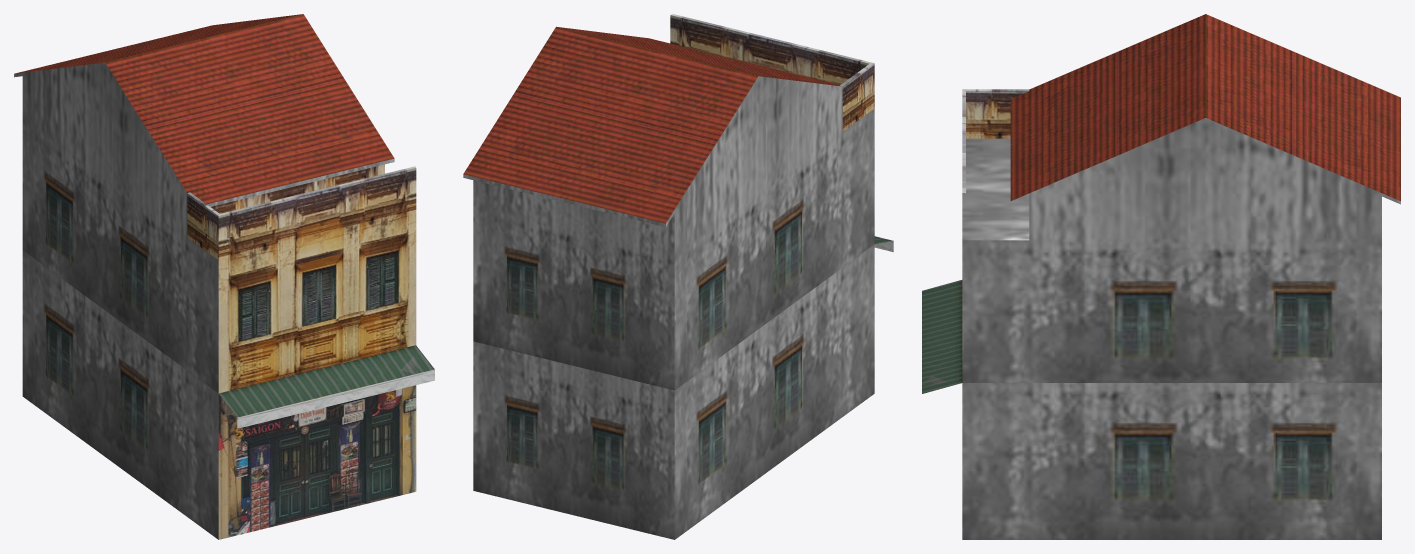
3 views of the same model, side by side, from view 1: azimuth 30°, elevation 25°; view 2: azimuth 150°, elevation 25°; view 3: azimuth 270°, elevation 25° (orthographic). The views are drawn at different scales.
Visible parts, largest first — view 1: HN985_NhaHangThinhVuong; view 2: HN985_NhaHangThinhVuong; view 3: HN985_NhaHangThinhVuong.
Part boxes in pixels (x1,y1,x2,y2): HN985_NhaHangThinhVuong: (14, 14, 434, 539); HN985_NhaHangThinhVuong: (463, 14, 893, 539); HN985_NhaHangThinhVuong: (922, 14, 1400, 539).
Size of the model in its own units: 4.68 by 8.89 by 9.12.
1 material, 1 textured.
